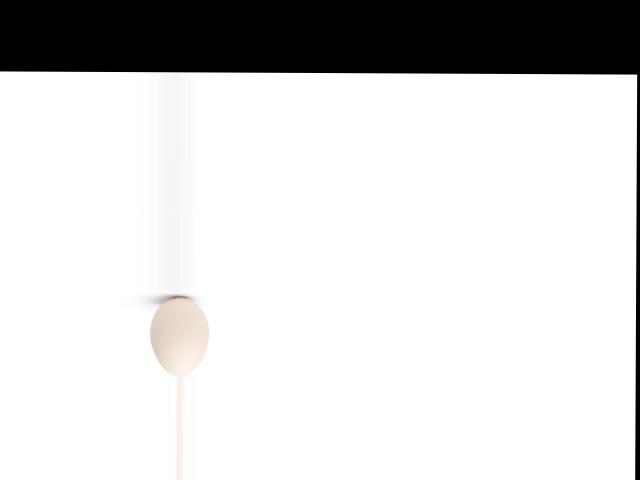egg: (150, 296, 209, 375)
